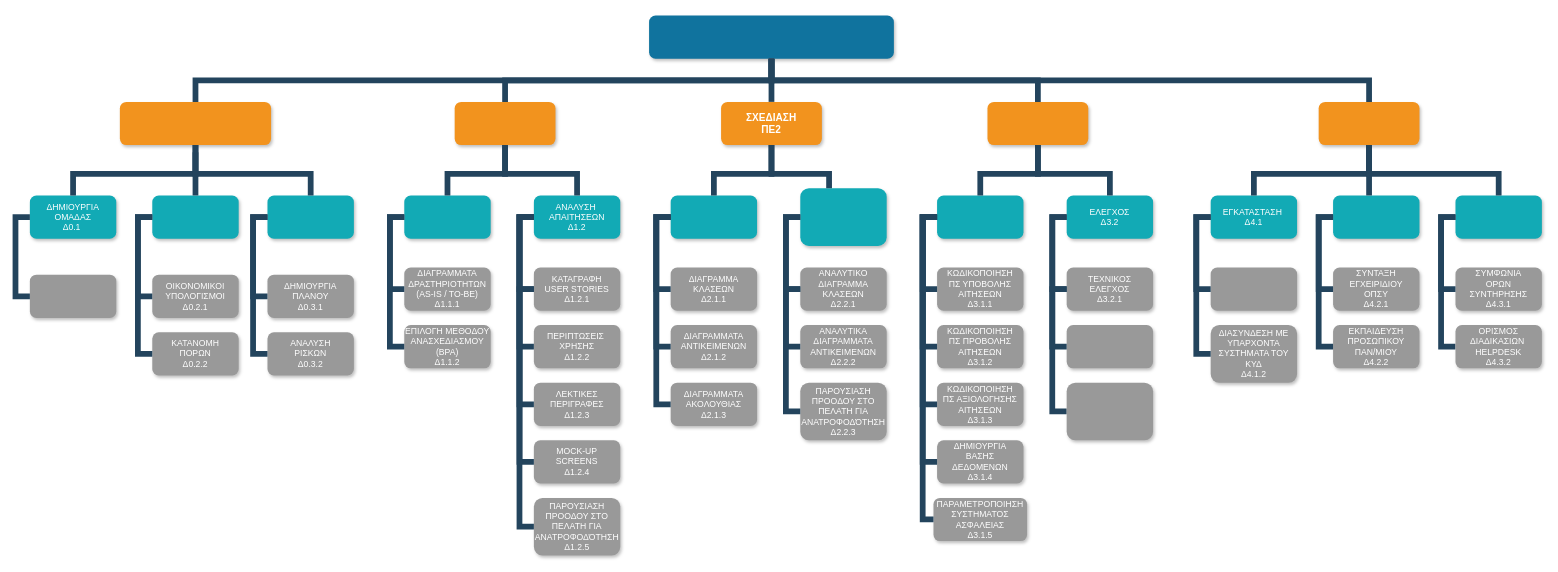
This 1558x572 diagram has some shape labels left out. The shapes that lost their labels are listed below. From the top down, each one's centre as x and y in pixels, then its label:
At [772,37]: "ΑΝΑΠΤΥΞΗ ΟΠΣΥ".
At [196,124]: "ΔΙΑΧΕΙΡΙΣΗ ΕΡΓΟΥ ΠΕ0".
At [505,124]: "ΑΝΑΛΥΣΗ ΠΕ1".
At [1038,124]: "ΥΛΟΠΟΙΗΣΗ ΠΕ3".
At [1369,124]: "ΠΑΡΑΔΟΣΗ ΠΕ4".
At [196,217]: "ΔΙΑΧΕΙΡΙΣΗ ΠΟΡΩΝ Δ0.2".
At [311,217]: "ΔΙΑΧΕΙΡΙΣΗ ΚΙΝΔΥΝΩΝ Δ0.3".
At [448,217]: "ΕΠΙΧΕΙΡΗΜΑΤΙΚΗ ΜΟΝΤΕΛΟΠΟΙΗΣΗ Δ1.1".
At [714,217]: "ΔΟΜΙΚΗ ΜΟΝΤΕΛΟΠΟΙΗΣΗ Δ2.1".
At [844,218]: "ΜΟΝΤΕΛΟΠΟΙΗΣΗ ΤΕΛΙΚΩΝ ΔΙΑΓΡΑΜΜΑΤΩΝ ΣΥΜΠΕΡΙΦΟΡΑΣ Δ2.2".
At [980,217]: "ΑΝΑΠΤΥΞΗ ΣΥΣΤΗΜΑΤΟΣ Δ3.1".
At [1376,217]: "ΕΚΠΑΙΔΕΥΣΗ Δ4.2".
At [1499,217]: "ΣΥΝΤΗΡΗΣΗ Δ4.3".
At [73,297]: "ΑΝΑΘΕΣΗ ΡΟΛΩΝ Δ0.1.1".
At [1254,289]: "ΕΓΚΑΤΑΣΤΑΣΗ ΠΣ Δ4.1.1".
At [1110,347]: "ΕΛΕΓΧΟΣ ΠΟΙΟΤΗΤΑΣ Δ3.2.2".
At [1110,412]: "ΠΑΡΟΥΣΙΑΣΗ ΠΡΟΟΔΟΥ ΣΤΟ ΠΕΛΑΤΗ ΓΙΑ ΑΝΑΤΡΟΦΟΔΌΤΗΣΗ Δ3.2.3".
